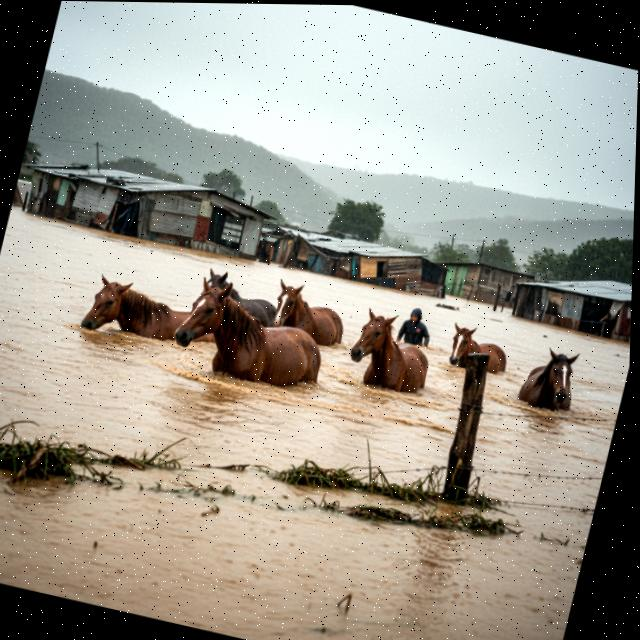civilian: (389, 301, 439, 351)
horse: (161, 281, 343, 404), (73, 267, 222, 361), (336, 304, 449, 407), (183, 265, 299, 339), (507, 339, 600, 421), (263, 280, 356, 349), (436, 320, 523, 388)
